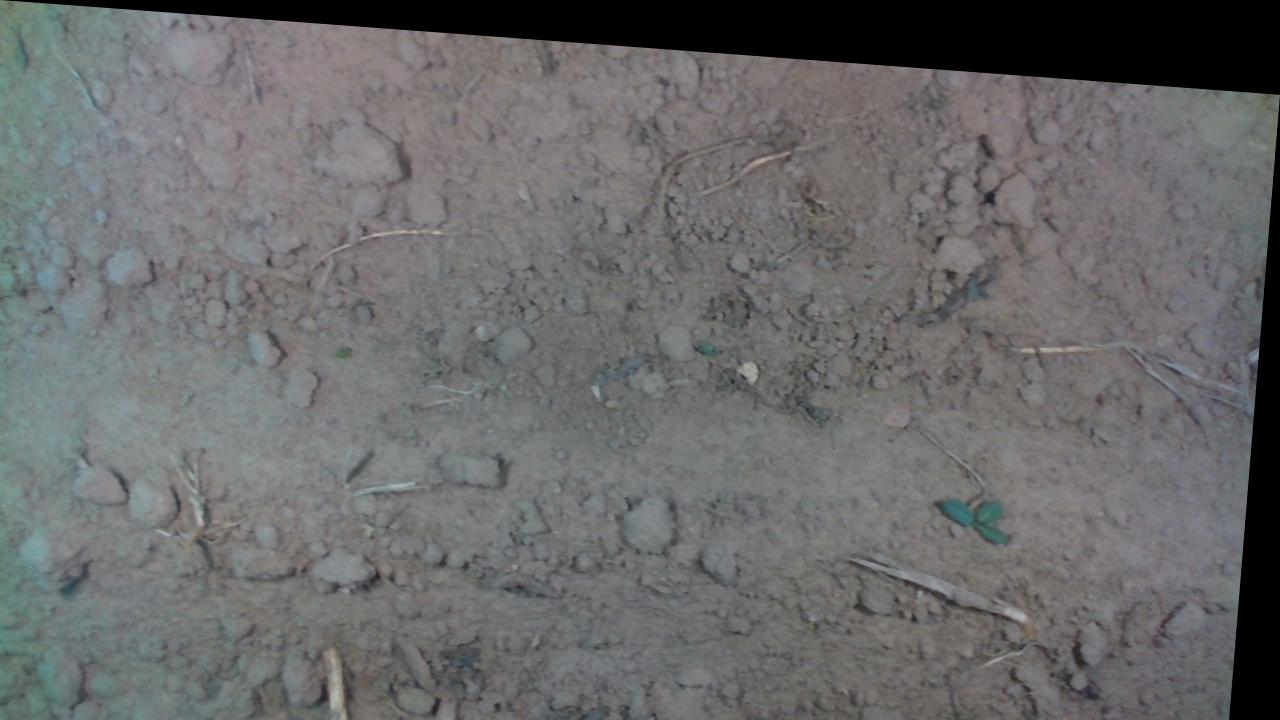weed: (944, 476, 1019, 530)
